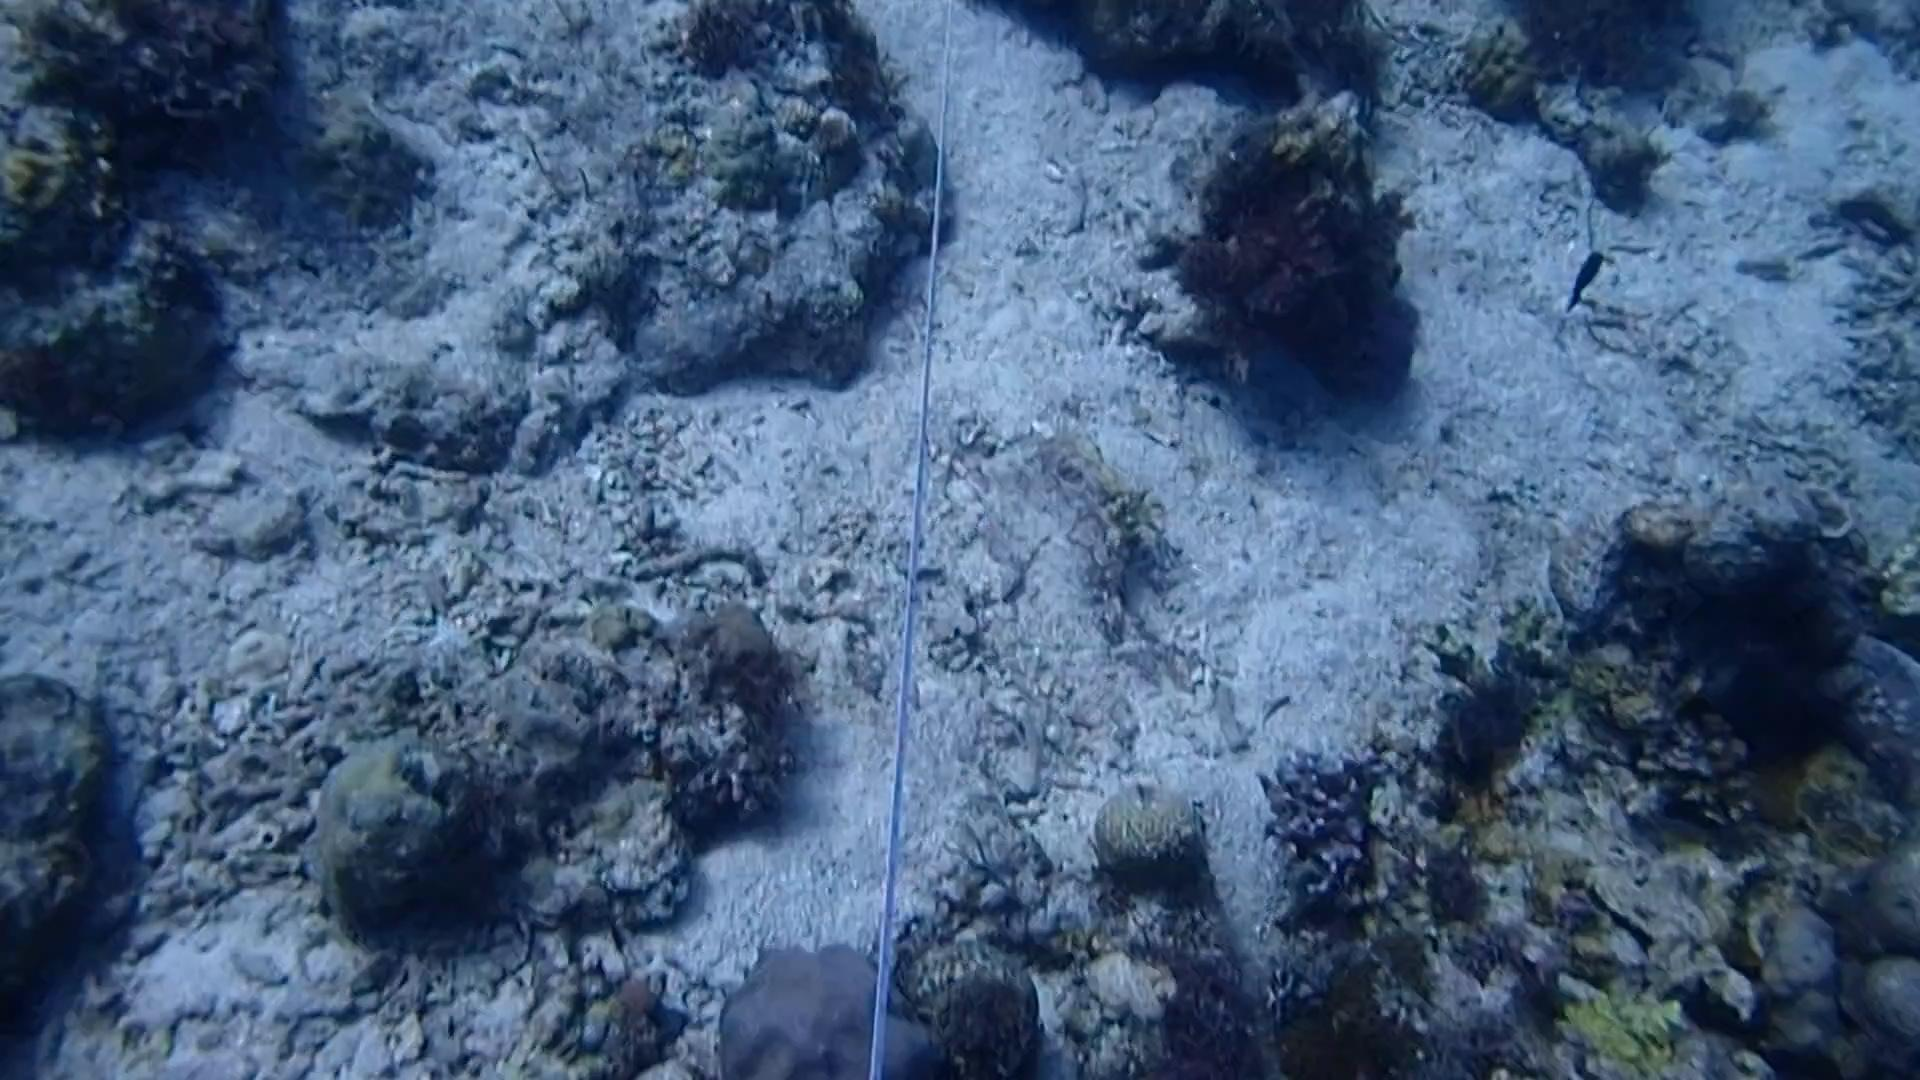Dark Fish: (1549, 239, 1626, 323)
